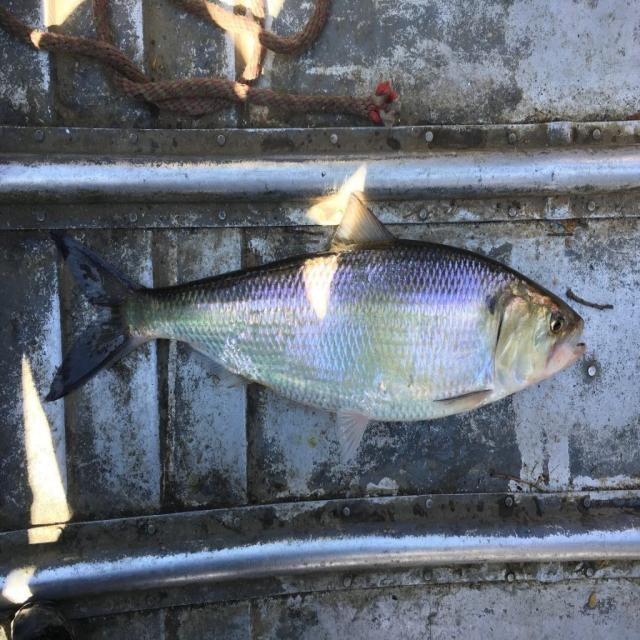Shad - American: (46, 195, 584, 461)
